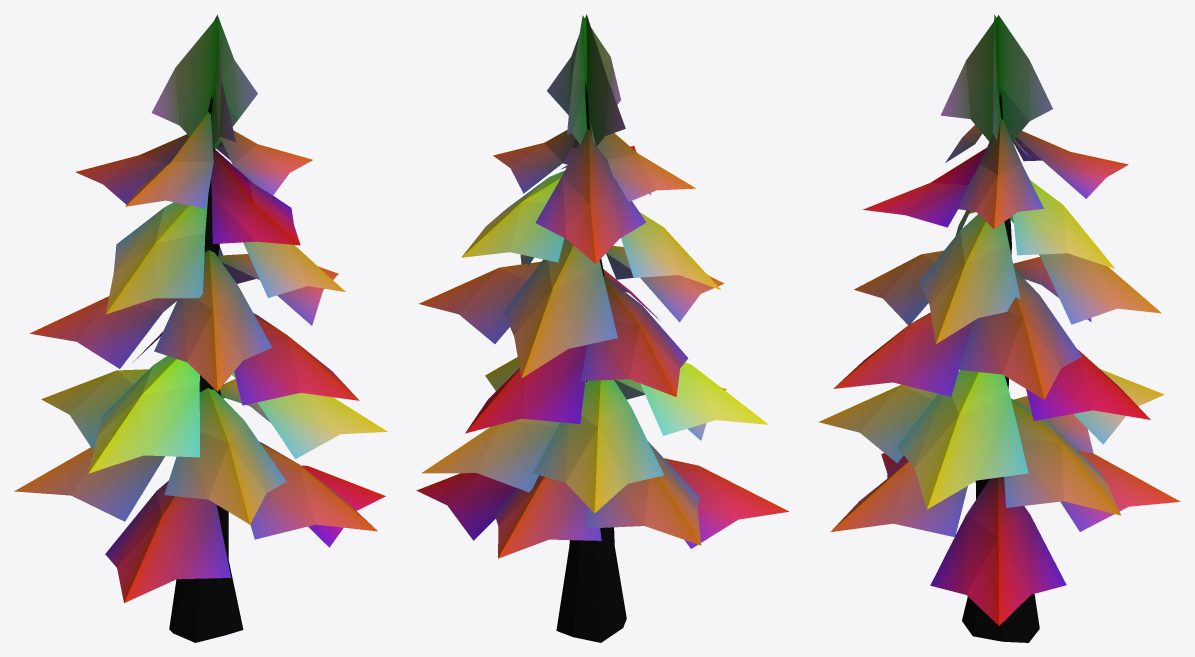
File: cedar_01_medium_a.dae
The picture shows the model from 3 angles, left to right: view 1: azimuth 30°, elevation 25°; view 2: azimuth 150°, elevation 25°; view 3: azimuth 270°, elevation 25°; orthographic projection. The views are drawn at different scales.
Visible parts, largest first — view 1: cedar128; view 2: cedar128; view 3: cedar128.
Boxes of the visible parts, <box> form: cedar128: <box>14,14,387,642</box>; cedar128: <box>416,14,788,642</box>; cedar128: <box>818,14,1180,642</box>.
Size of what is drawn, in the model's own units: 11.21 by 10.55 by 20.02.
